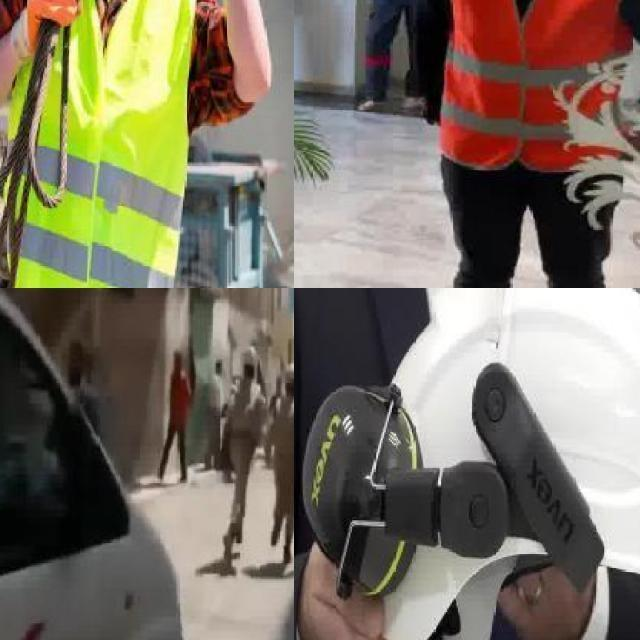apron: (10, 0, 83, 67)
